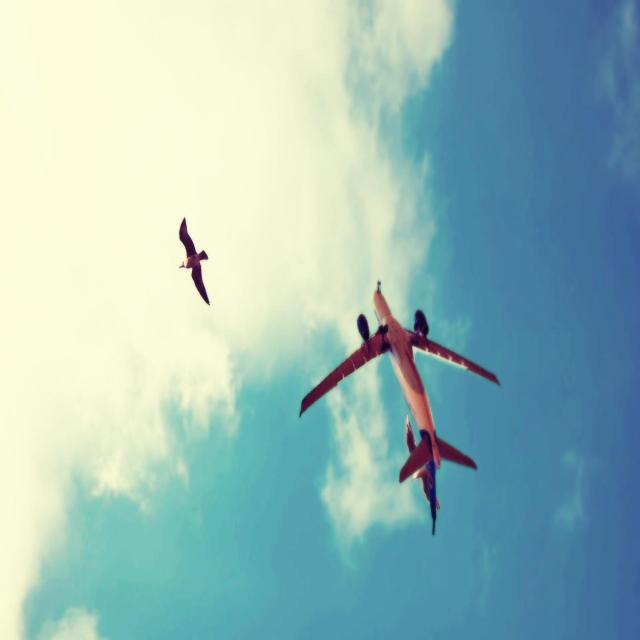airplane: (299, 279, 501, 535)
